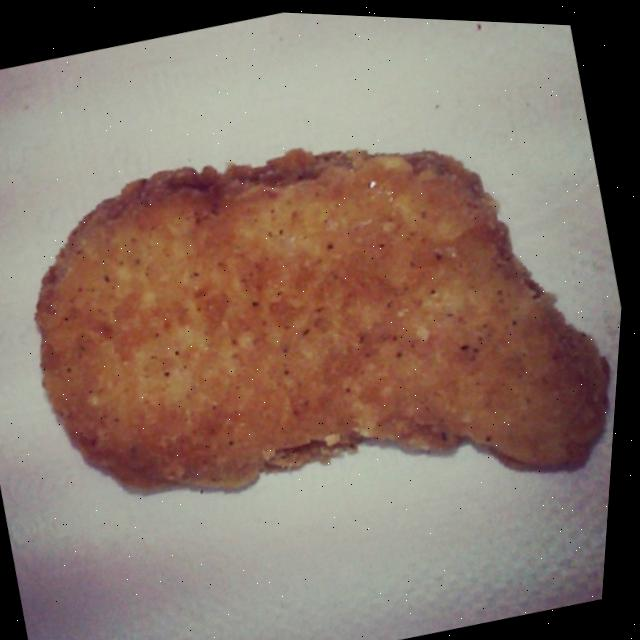鸡肉料理 含炸鸡: (0, 42, 638, 603)
